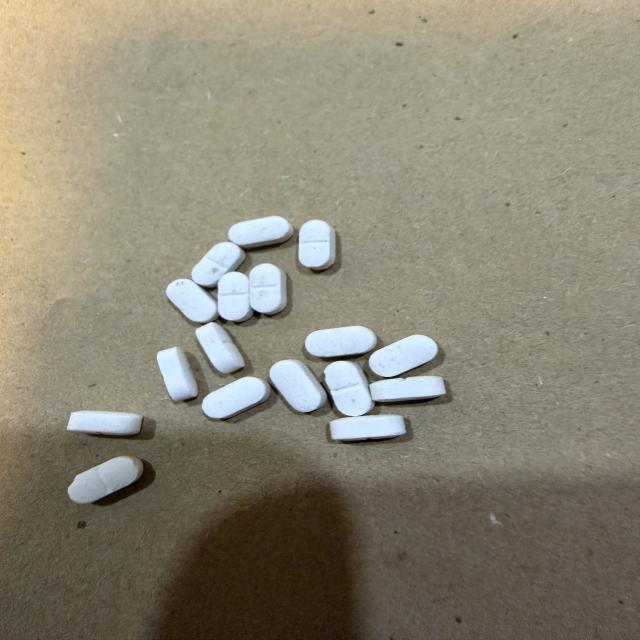pill: (68, 456, 143, 503), (270, 360, 326, 412), (369, 335, 438, 377), (202, 377, 270, 419), (325, 361, 373, 416), (196, 323, 244, 373), (192, 242, 245, 287), (167, 279, 218, 323), (305, 326, 377, 357), (157, 347, 198, 401), (229, 216, 293, 248), (370, 376, 446, 402), (330, 415, 405, 441), (249, 264, 286, 314), (67, 411, 142, 435), (299, 220, 335, 270), (218, 272, 253, 322)
